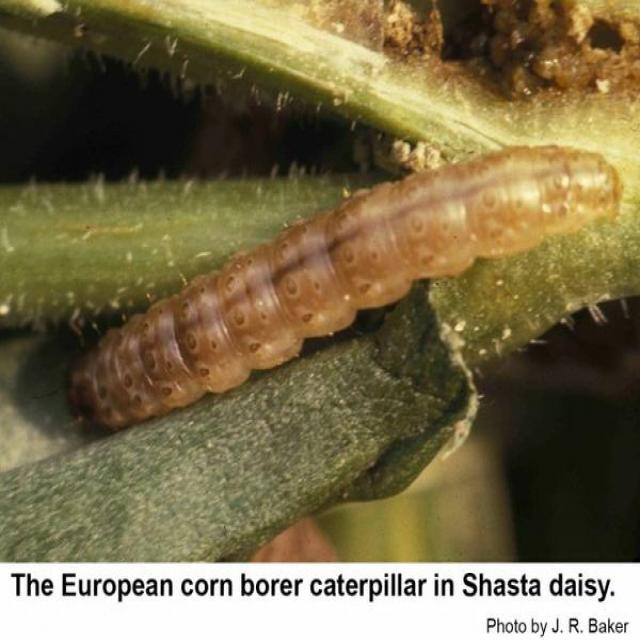cornborer-Larva-: (60, 142, 631, 438)
